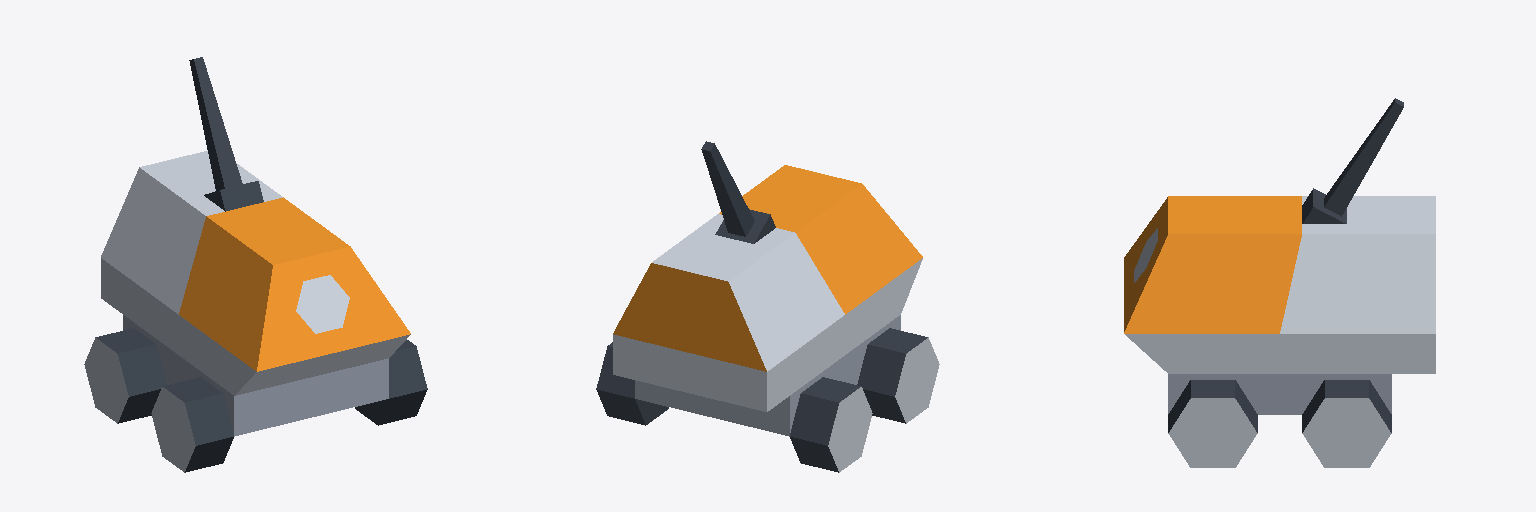
Rendered from rover.obj.
The picture shows the model from 3 angles: view 1: azimuth 30°, elevation 25°; view 2: azimuth 150°, elevation 25°; view 3: azimuth 270°, elevation 25°; orthographic projection.
Visible parts, largest first — view 1: rover1:rover; view 2: rover1:rover; view 3: rover1:rover.
Boxes of the visible parts, box(x1,y1,x2,y2) form: rover1:rover: box(84, 57, 427, 472); rover1:rover: box(596, 141, 939, 472); rover1:rover: box(1124, 98, 1435, 467).
Bounding box in the file's own units: 0.3 × 0.3853 × 0.35.